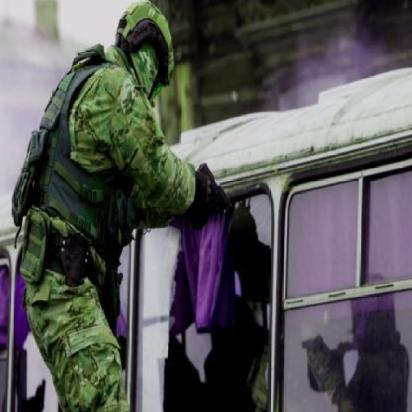Gun: (192, 160, 233, 221)
